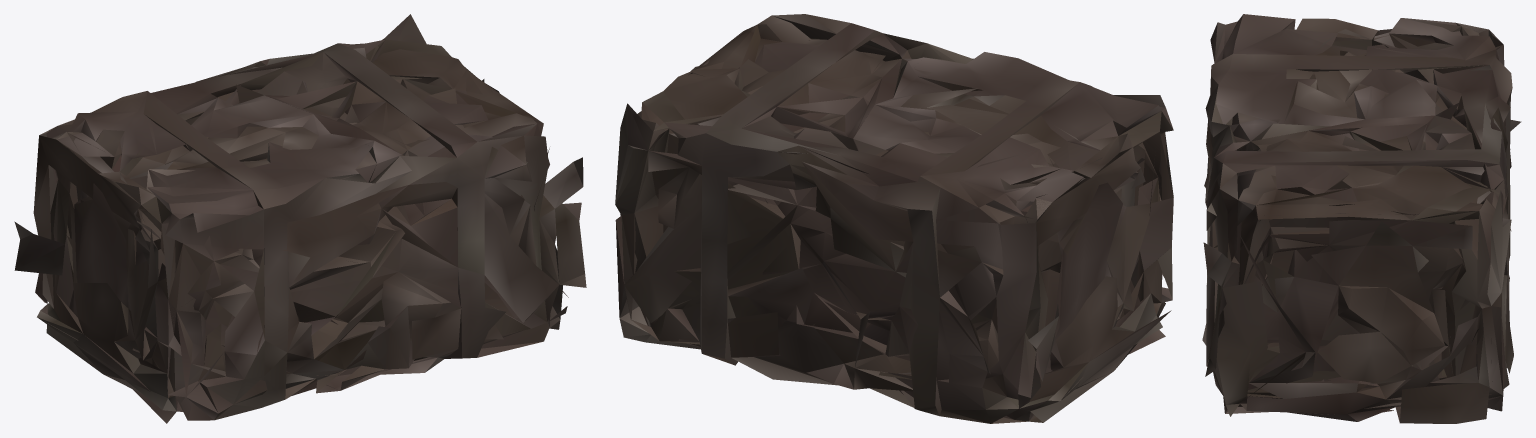
File: res.salvage.glb
The picture shows the model from 3 angles, left to right: view 1: azimuth 30°, elevation 25°; view 2: azimuth 150°, elevation 25°; view 3: azimuth 270°, elevation 25°; orthographic projection. The views are drawn at different scales.
Visible parts, largest first — view 1: body; view 2: body; view 3: body.
Boxes of the visible parts, x1=… form: body: x1=14, y1=14, x2=586, y2=423; body: x1=615, y1=14, x2=1173, y2=423; body: x1=1202, y1=14, x2=1521, y2=423.
Bounding box in the file's own units: 0.352 × 0.1792 × 0.2271.
Materials: 1 (1 with a texture image).
